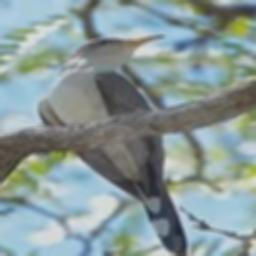Cuckoo: (38, 35, 189, 256)
